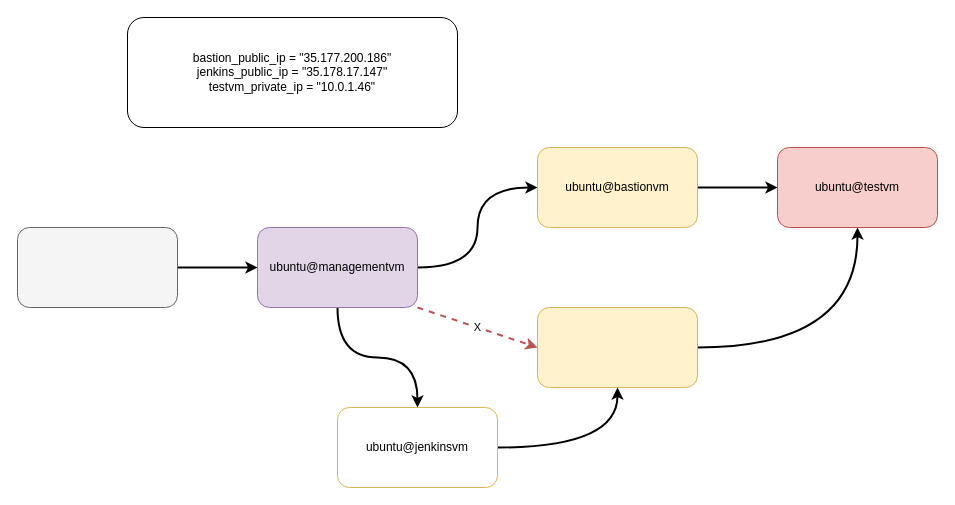
Some shapes in this 955 by 505 pixel diagram are drawn without their labels. Each missing label, with the box of its shape:
jenkins@jenkinsvm: (536, 306, 698, 388)
local mac: (16, 226, 178, 308)
